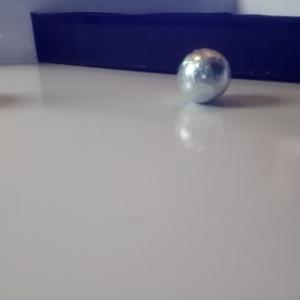zone: (30, 11, 300, 82)
